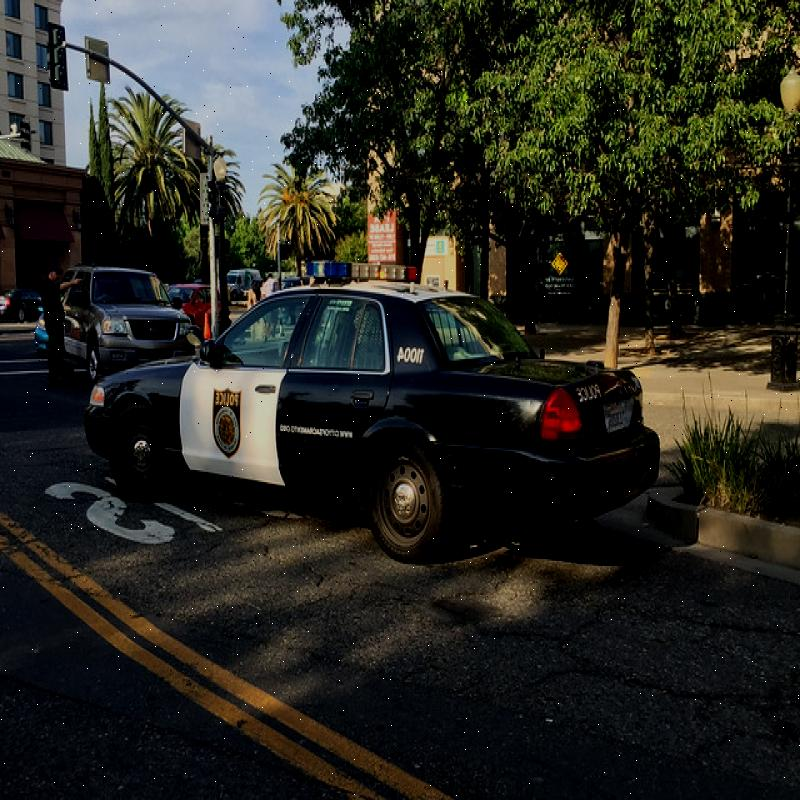AmbulanceSiren: (297, 242, 431, 296)
